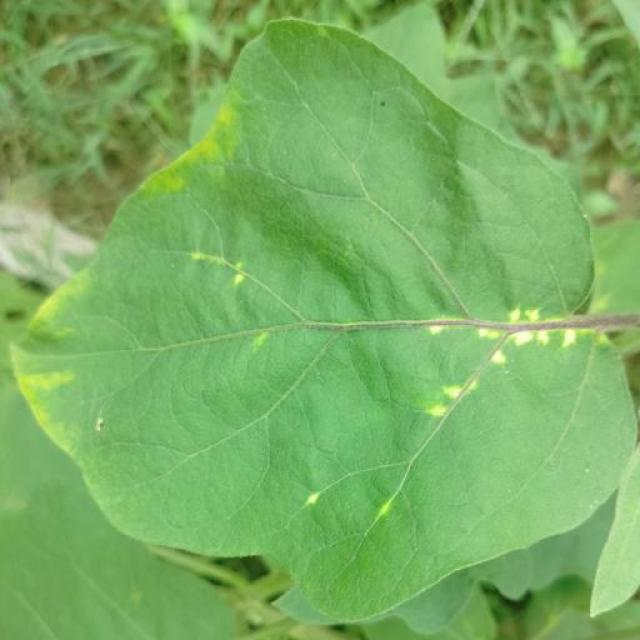leaf_spot: (7, 359, 93, 445), (163, 144, 252, 191), (23, 278, 83, 344), (192, 244, 248, 291), (189, 111, 261, 147), (496, 306, 554, 348), (572, 287, 627, 331), (152, 0, 206, 43), (236, 322, 288, 362), (144, 171, 196, 201), (546, 311, 582, 349), (423, 311, 472, 337), (484, 339, 516, 378), (551, 45, 596, 71), (71, 255, 103, 291), (576, 320, 614, 350), (412, 394, 452, 421), (85, 411, 122, 436), (296, 483, 325, 514), (435, 382, 469, 407), (474, 318, 504, 346), (126, 583, 153, 611), (216, 91, 245, 117), (538, 605, 568, 630), (460, 375, 484, 396), (585, 258, 609, 279), (376, 496, 393, 523), (445, 42, 465, 62)
